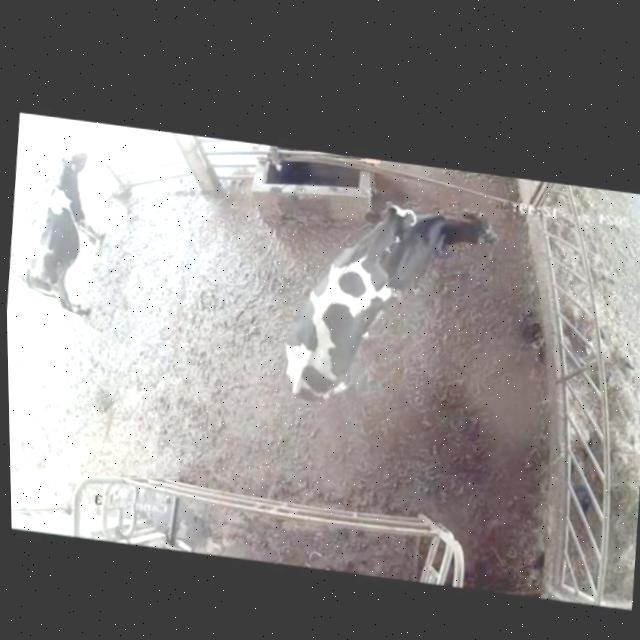ride: (265, 184, 428, 423)
stand: (3, 132, 132, 336), (381, 192, 513, 326)
